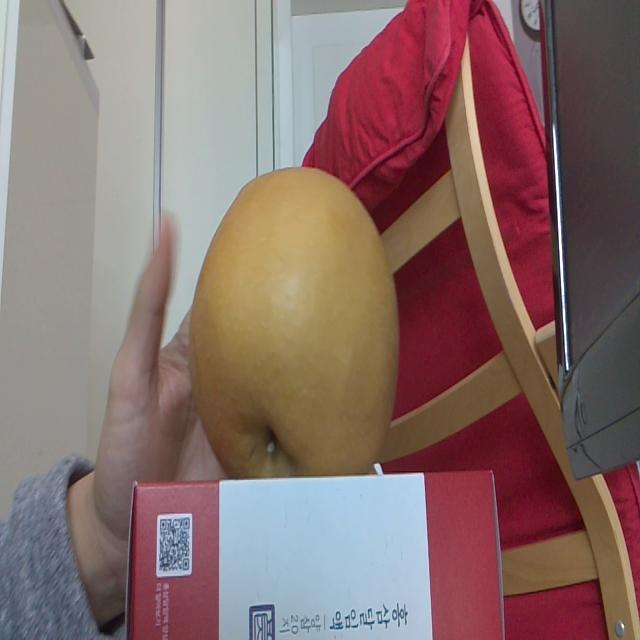pear: (188, 166, 399, 477)
